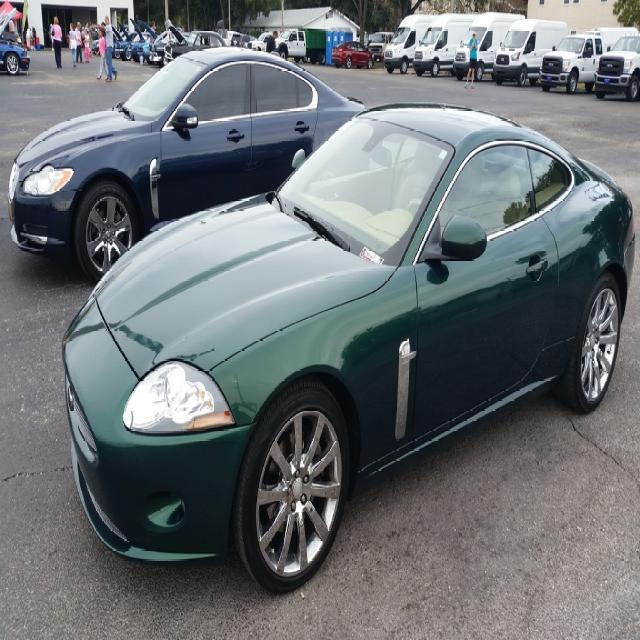car: (70, 114, 625, 579), (7, 34, 355, 289), (328, 42, 373, 71)
